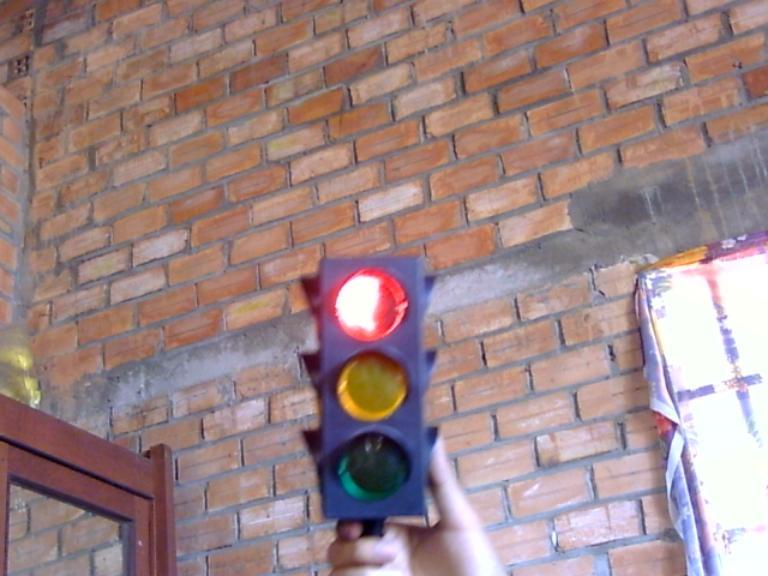red: (329, 263, 413, 345)
